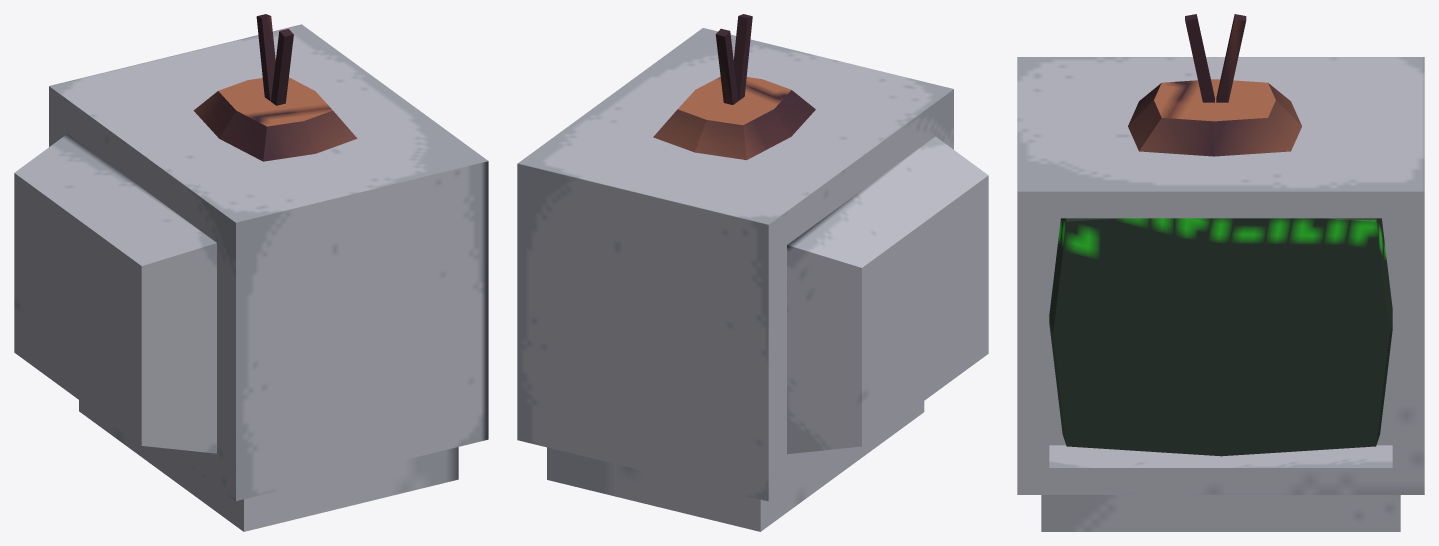
The model's file is Televisao.fbx.
3 views of the same model, side by side, from view 1: azimuth 30°, elevation 25°; view 2: azimuth 150°, elevation 25°; view 3: azimuth 270°, elevation 25° (orthographic). The views are drawn at different scales.
Visible parts, largest first — view 1: Televisao; view 2: Televisao; view 3: Televisao.
Boxes of the visible parts, <box> form: Televisao: <box>14,14,488,531</box>; Televisao: <box>517,14,988,531</box>; Televisao: <box>1017,14,1424,531</box>.
Bounding box in the file's own units: 73.18 × 74.66 × 93.18.
